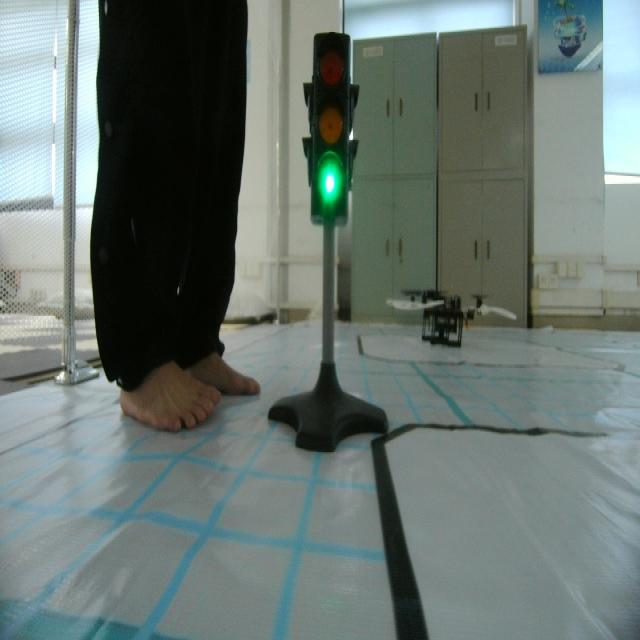green: (302, 28, 358, 228)
